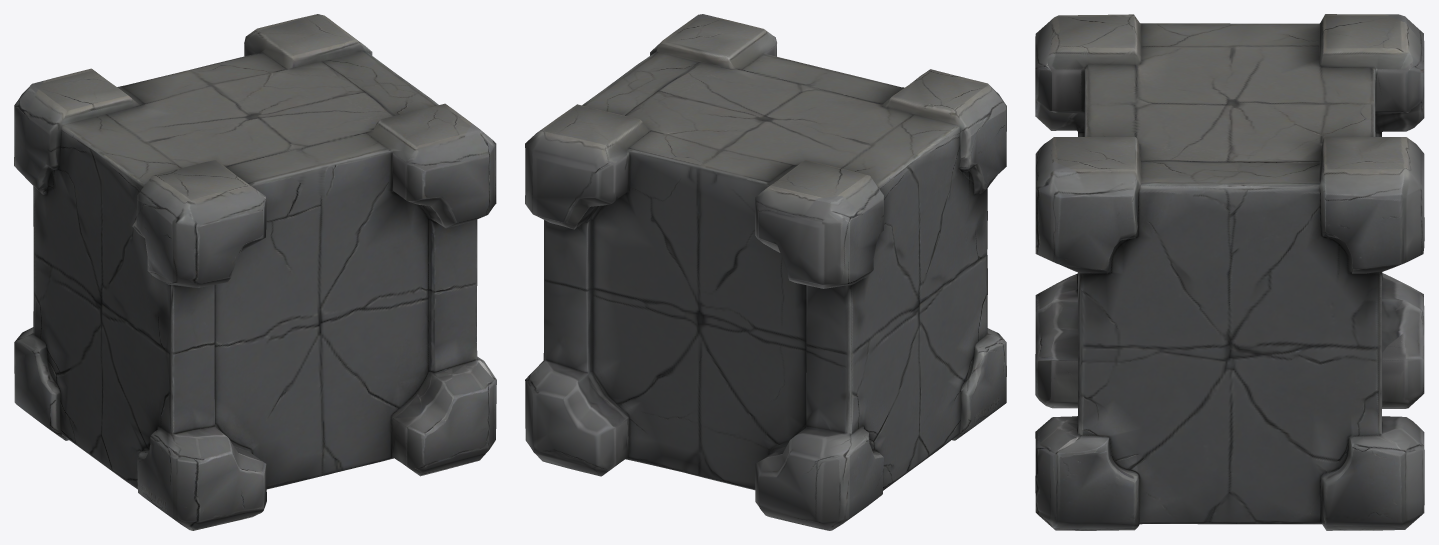
The model's file is DungeonBlackCube2.fbx.
The picture shows the model from 3 angles, left to right: view 1: azimuth 30°, elevation 25°; view 2: azimuth 150°, elevation 25°; view 3: azimuth 270°, elevation 25°; orthographic projection. The views are drawn at different scales.
Parts seen in each view (by area): view 1: input; view 2: input; view 3: input.
Boxes of the visible parts, left/top/right/bottom form: input: left=14, top=14, right=496, bottom=530; input: left=525, top=14, right=1006, bottom=530; input: left=1035, top=14, right=1424, bottom=530.
Bounding box in the file's own units: 163 × 157 × 154.
1 material, 1 textured.
